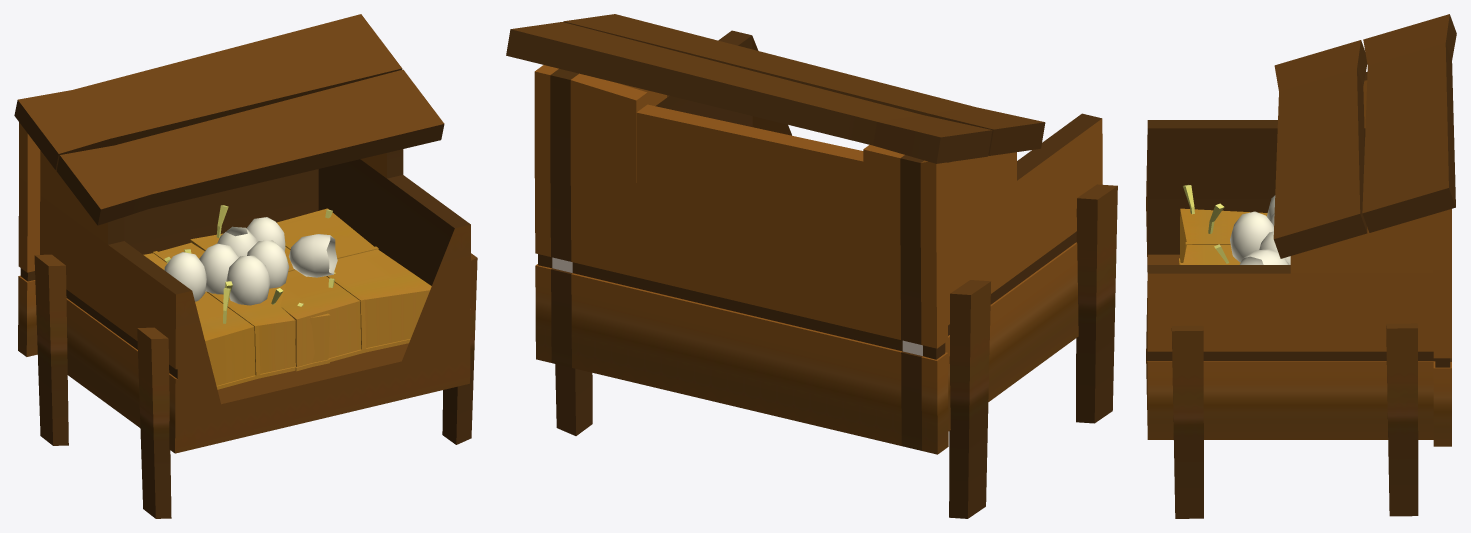
Rendered from CasaGalinha.glb.
The picture shows the model from 3 angles, left to right: view 1: azimuth 30°, elevation 25°; view 2: azimuth 150°, elevation 25°; view 3: azimuth 270°, elevation 25°; orthographic projection. The views are drawn at different scales.
Parts seen in each view (by area): view 1: CasaGalinha; view 2: CasaGalinha; view 3: CasaGalinha.
Boxes of the visible parts, left/top/right/bottom form: CasaGalinha: left=14, top=14, right=477, bottom=518; CasaGalinha: left=506, top=14, right=1117, bottom=518; CasaGalinha: left=1146, top=14, right=1456, bottom=518.
Bounding box in the file's own units: 2.06 × 1.85 × 1.51.
Materials: 1 (1 with a texture image).
